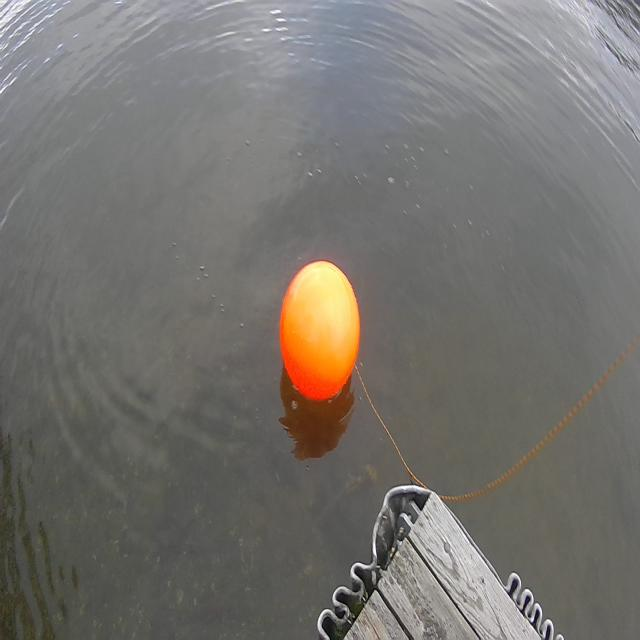Buoy: (270, 252, 364, 412)
